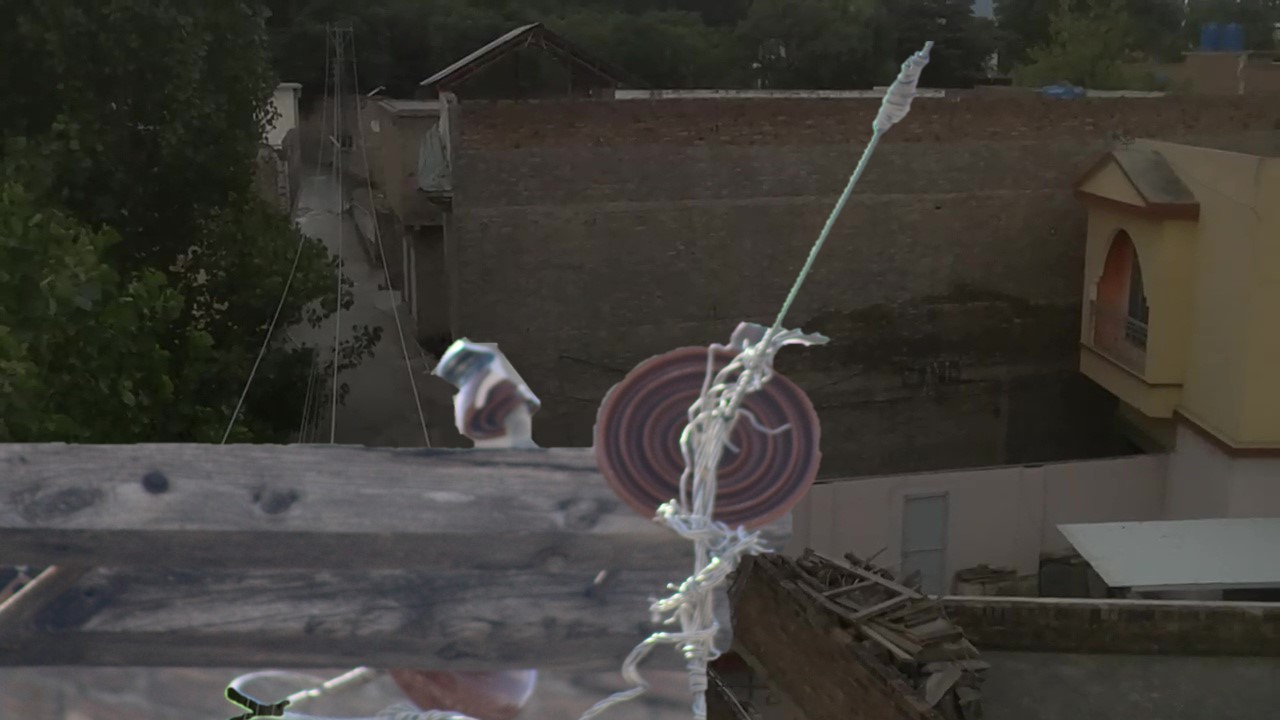defect_pin: (424, 326, 548, 450)
insulator_disc: (588, 330, 830, 549)
